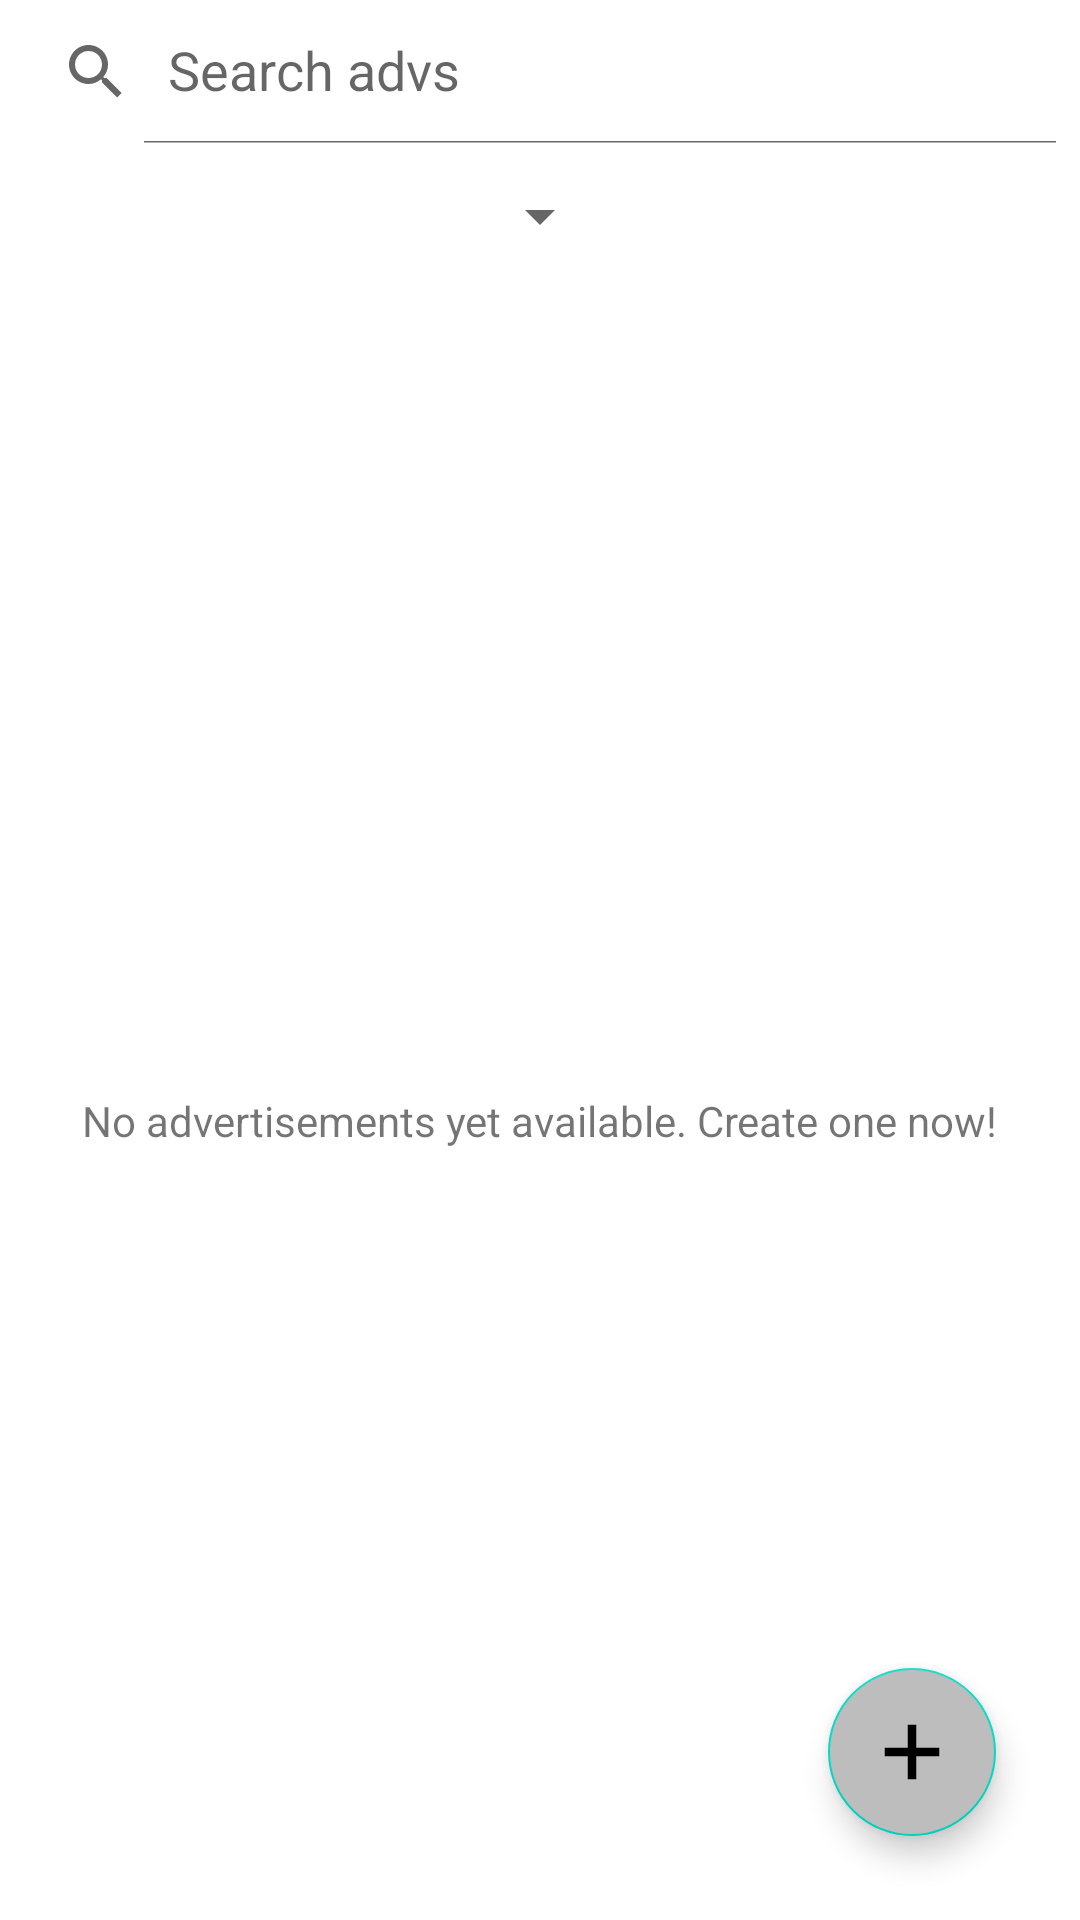

Locate icon controls on the screen. Image size 1080*1920, boxes as (x1, y1, x2, y2).
Add: (828, 1668, 996, 1836)
